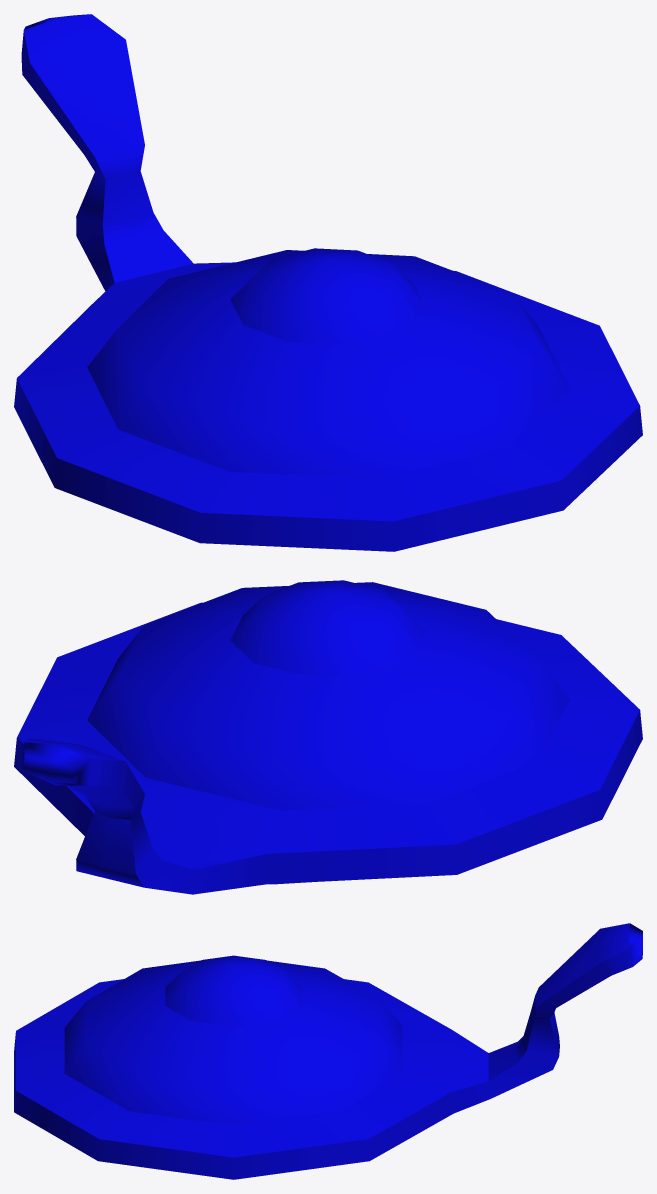
The model's file is Stein_Top_02.fbx.
The picture shows the model from 3 angles, top to bottom: view 1: azimuth 30°, elevation 25°; view 2: azimuth 150°, elevation 25°; view 3: azimuth 270°, elevation 25°; orthographic projection. The views are drawn at different scales.
Parts seen in each view (by area): view 1: Stein_Top_02; view 2: Stein_Top_02; view 3: Stein_Top_02.
Boxes of the visible parts, box(x1,y1,x2,y2) form: Stein_Top_02: box(14, 14, 642, 551); Stein_Top_02: box(14, 580, 642, 894); Stein_Top_02: box(14, 923, 642, 1179).
Bounding box in the file's own units: 38.05 × 14.4 × 51.76.
